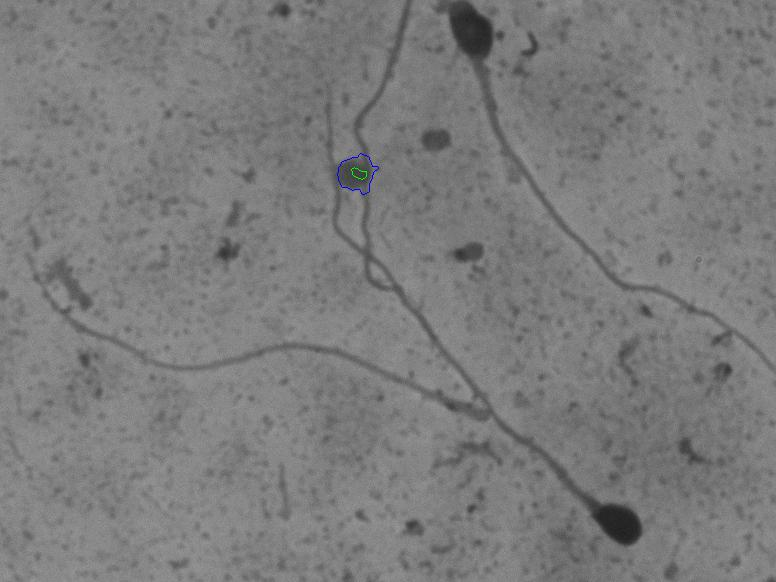Abnormal: (315, 77, 666, 563)
